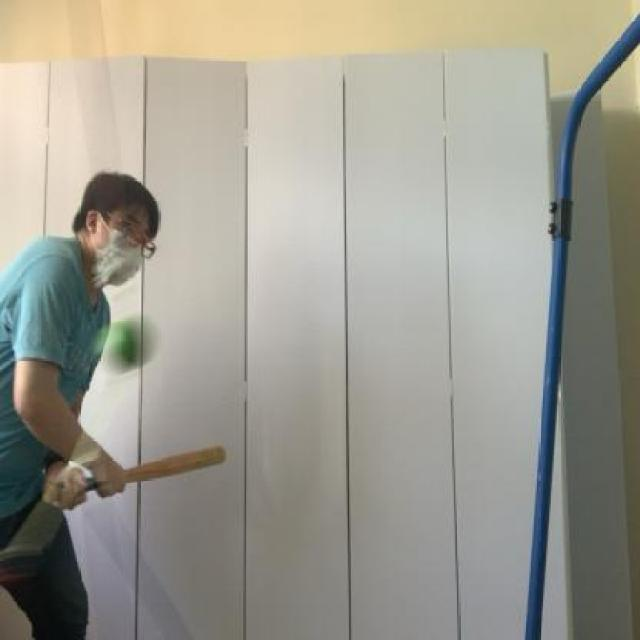baseball: (94, 313, 158, 382)
